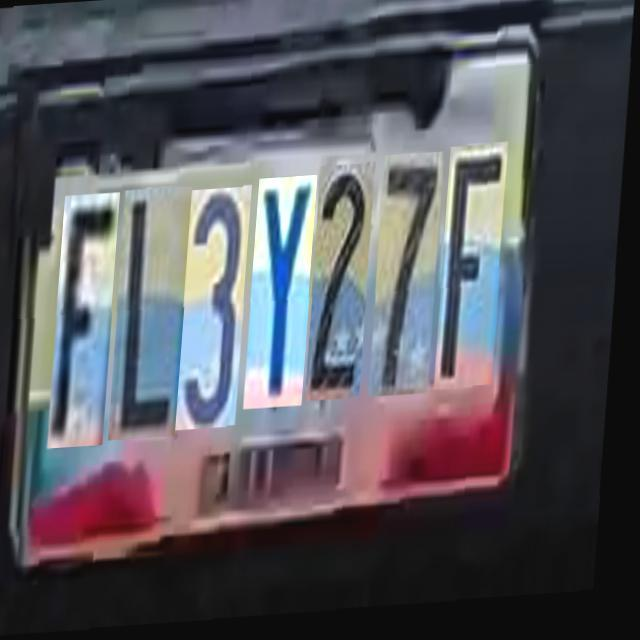2: (311, 166, 379, 403)
3: (182, 186, 255, 429)
7: (374, 156, 447, 402)
F: (54, 189, 124, 444), (439, 149, 511, 395)
L: (115, 185, 196, 438)
Y: (250, 177, 320, 410)
